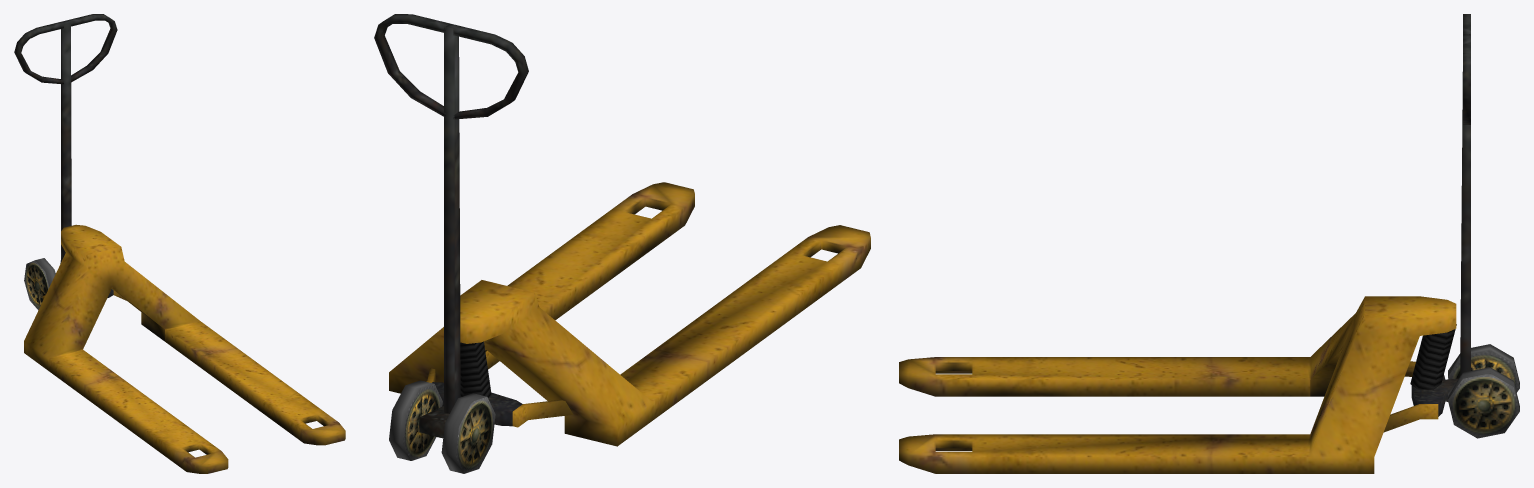
File: Trap.obj
3 views of the same model, side by side, from view 1: azimuth 30°, elevation 25°; view 2: azimuth 150°, elevation 25°; view 3: azimuth 270°, elevation 25° (orthographic). The views are drawn at different scales.
Parts seen in each view (by area): view 1: Trap; view 2: Trap; view 3: Trap.
Boxes of the visible parts, x1,y1,x2,y2 form: Trap: (14, 14, 345, 473); Trap: (374, 14, 870, 473); Trap: (899, 14, 1519, 473).
Size of the model in its own units: 2.6 by 4.68 by 6.79.
Materials: 1 (1 with a texture image).
